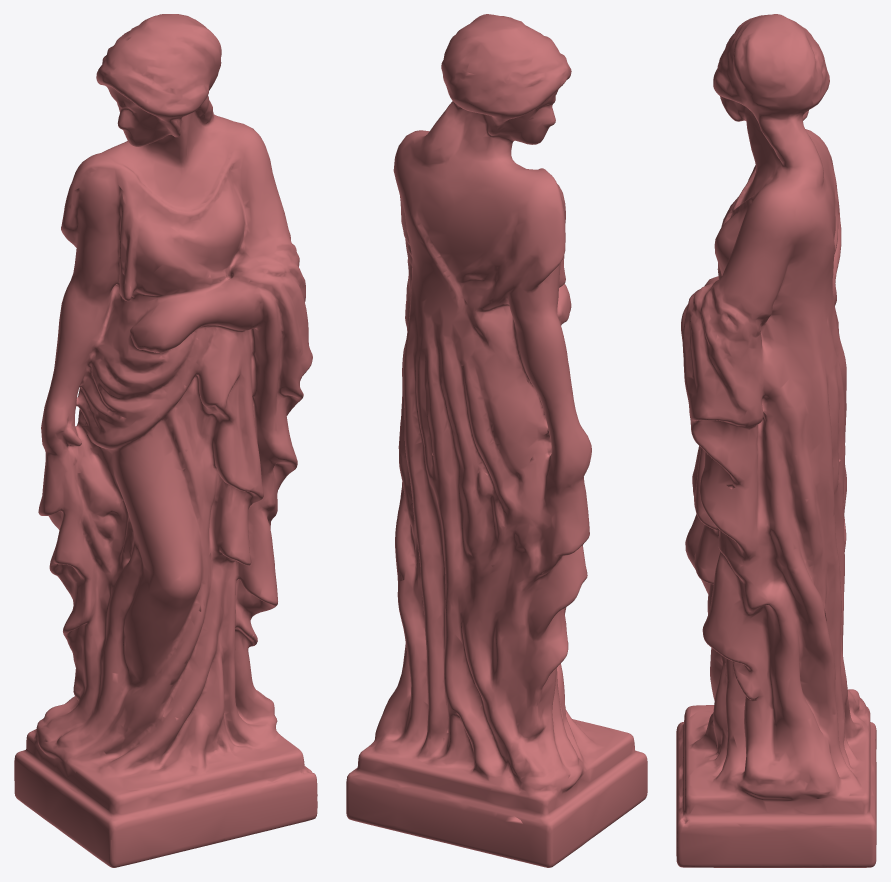
File: woman-rose.glb
3 views of the same model, side by side, from view 1: azimuth 30°, elevation 25°; view 2: azimuth 150°, elevation 25°; view 3: azimuth 270°, elevation 25° (orthographic).
Parts seen in each view (by area): view 1: woman-rose - original generated mesh; view 2: woman-rose - original generated mesh; view 3: woman-rose - original generated mesh.
Part boxes in pixels (<box>): woman-rose - original generated mesh: <box>14,14,317,867</box>; woman-rose - original generated mesh: <box>346,14,647,867</box>; woman-rose - original generated mesh: <box>676,14,876,867</box>.
Size of the model in its own units: 0.8717 by 3 by 0.6839.
